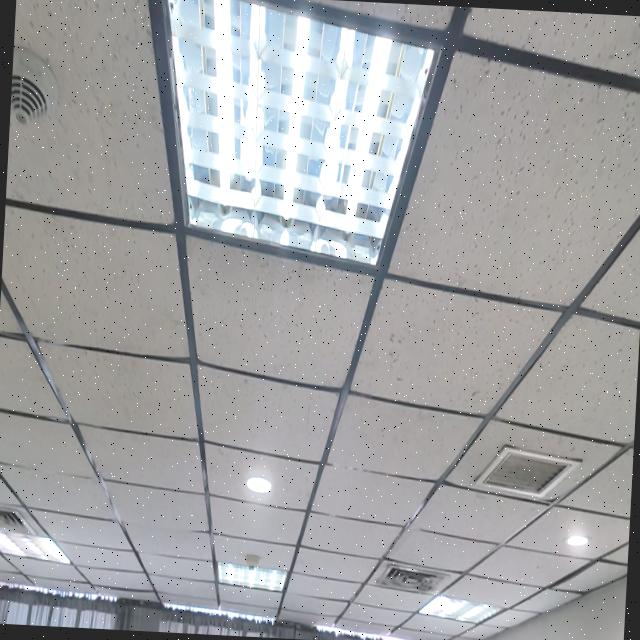Light: (167, 0, 436, 264), (0, 527, 70, 564), (419, 595, 501, 623), (218, 563, 286, 591), (247, 477, 272, 493), (566, 535, 588, 546)
